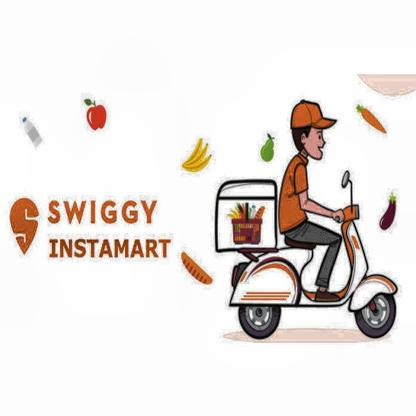Swiggy: (49, 198, 155, 225), (9, 199, 39, 257)
